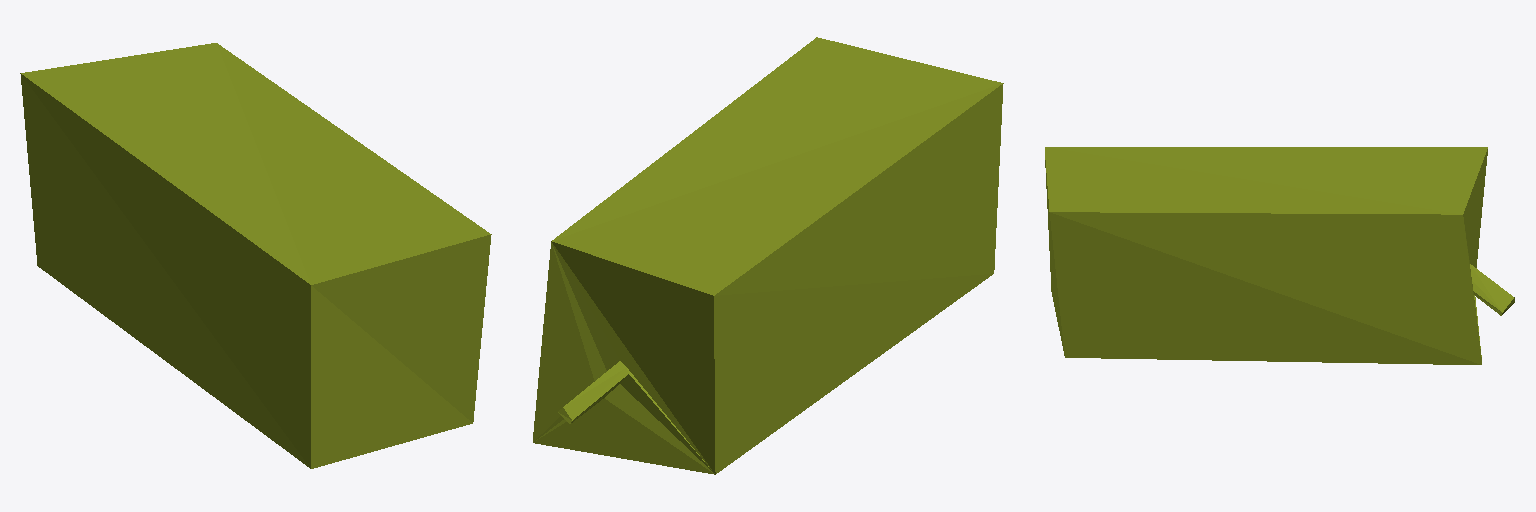
URDF robot description (blob209):

<robot name="blob209">
  <link name="random_obj_209">
    <contact>
      <lateral_friction value="1.0"/>
      <rolling_friction value="0.0"/>
      <inertia_scaling value="3.0"/>
      <contact_cfm value="0.0"/>
      <contact_erp value="1.0"/>
    </contact>
    <inertial>
      <origin rpy="0 0 0" xyz="0 0 0"/>
      <mass value="0.0694"/>
      <inertia ixx="1" ixy="0" ixz="0" iyy="1" iyz="0" izz="0"/>
    </inertial>
    <visual>
      <origin rpy="0 0 0" xyz="0 0 0"/>
      <geometry>
        <mesh filename="209.obj" scale="0.0085 0.0085 0.0085"/>
      </geometry>
      <material name="blockmat">
        <color rgba="0.56 0.62 0.18 1"/>
      </material>
    </visual>
    <collision>
      <origin rpy="0 0 0" xyz="0 0 0"/>
      <geometry>
        <mesh filename="209_coll.obj" scale="0.0085 0.0085 0.0085"/>
      </geometry>
    </collision>
  </link>
</robot>

--- What the picture shows (computed from the rendered views, not written in the file) ---
3 views of the same robot in one strip: view 1: azimuth 30°, elevation 25°; view 2: azimuth 150°, elevation 25°; view 3: azimuth 270°, elevation 25° (orthographic).
Model blob209 with 1 links and 0 joints (none), rooted at random_obj_209, posed all joints at 0.
Links seen in each view (by area): view 1: random_obj_209; view 2: random_obj_209; view 3: random_obj_209.
Boxes of the visible links, box(x1,y1,x2,y2) form: random_obj_209: box(20, 43, 491, 468); random_obj_209: box(533, 37, 1003, 474); random_obj_209: box(1045, 147, 1514, 364).
Size in the robot's own frame: 0.04 by 0.1149 by 0.0411 metres.
1 mesh visuals loaded from 1 distinct referenced files (1 OBJ).
